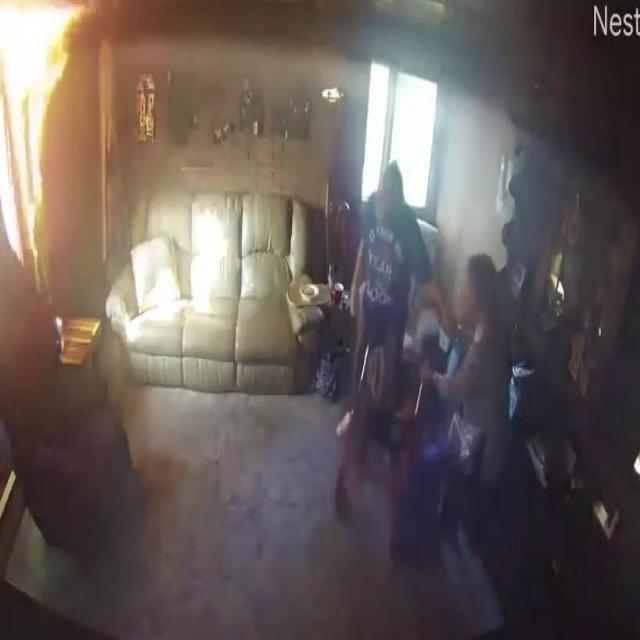smoke: (0, 0, 91, 263)
